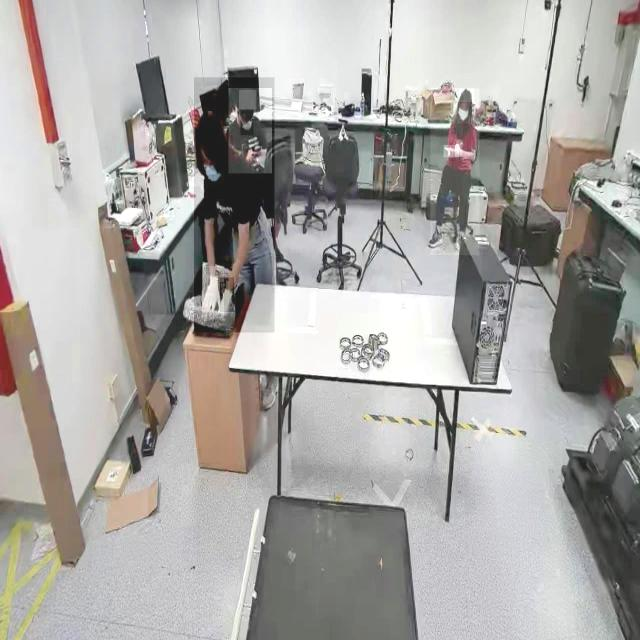face_mask: (204, 152, 223, 187), (240, 110, 253, 135), (457, 103, 469, 124)
hand_glove: (202, 266, 224, 319), (220, 277, 234, 313)
hand_noglove: (246, 142, 262, 164), (443, 145, 459, 158), (455, 140, 463, 158)
head_nohelmet: (194, 108, 223, 148), (238, 90, 256, 110), (458, 89, 474, 103)
person: (193, 78, 274, 334), (430, 88, 480, 256), (228, 88, 272, 173)
shoes: (428, 221, 446, 250)
